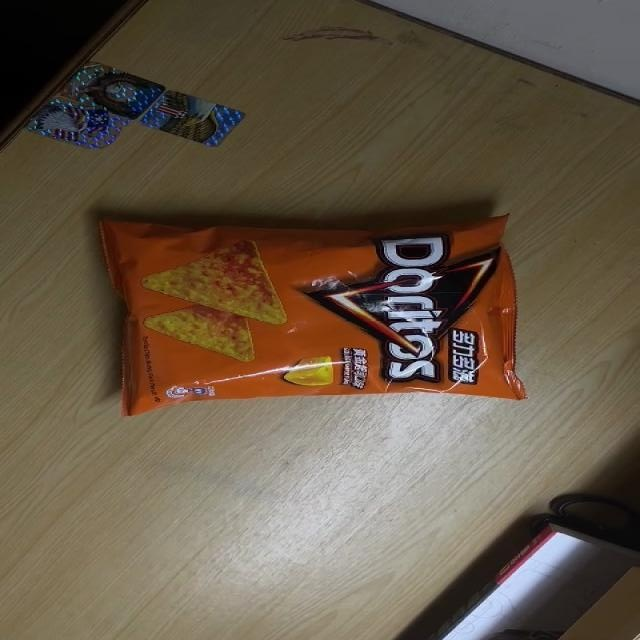Doritos: (95, 209, 524, 417)
